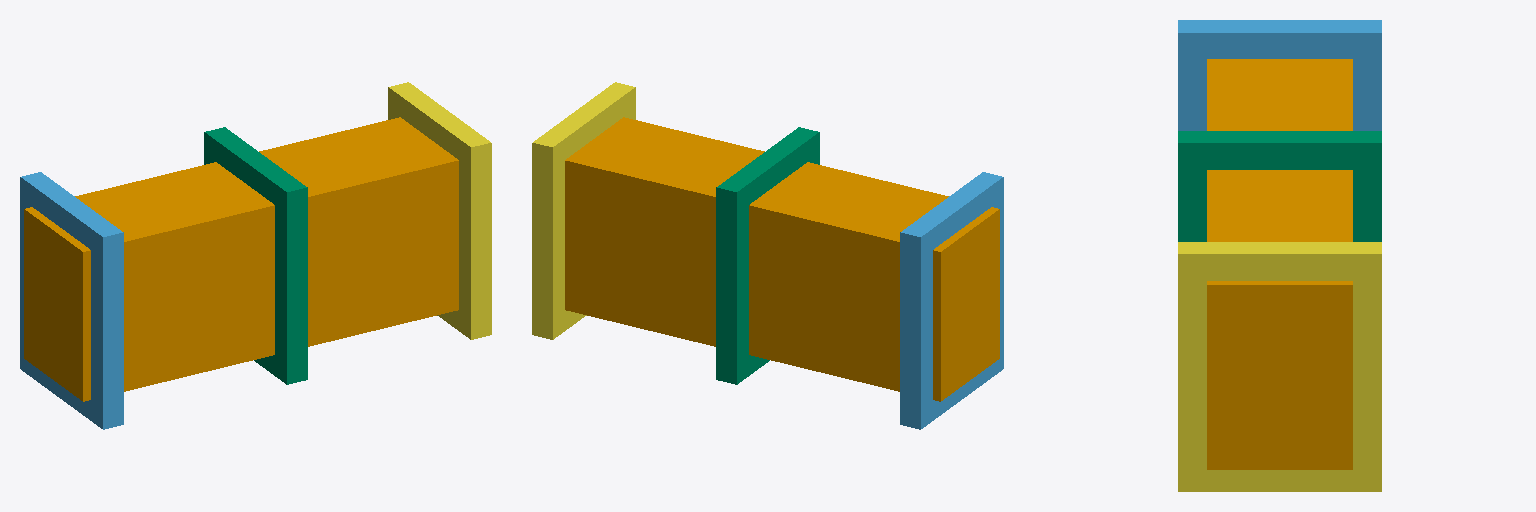
URDF robot description (debris016):
<?xml version="1.0" ?>
<robot name="debris016">

<link name="debris016">
<visual> <origin xyz="0 0 0" rpy="0 0 0" />
<geometry> <box size="0.99 0.25 0.35"/> </geometry>
</visual>
<collision> <origin xyz="0 0 0" rpy="0 0 0" />
<geometry> <box size="0.99 0.25 0.35"/> </geometry>
</collision>
<inertial> <origin xyz="0 0 0" rpy="0 0 0" />
<mass value="10.0" />
<inertia ixx="0.4699" ixy="0" ixz="0" iyy="0.4699" iyz="0" izz="0.4699" />
</inertial>
</link>
<gazebo reference="debris016"> <material>Gazebo/Tree</material> </gazebo>

<link name="debris0160">
<visual> <origin xyz="-0.45 0 0" rpy="0 0 0" />
<geometry> <box size="0.05 0.35 0.45"/> </geometry>
</visual>
<collision> <origin xyz="-0.45 0 0" rpy="0 0 0" />
<geometry> <box size="0.05 0.35 0.45"/> </geometry>
</collision>
<inertial> <origin xyz="0 0 0" rpy="0 0 0" />
<mass value="0.1" />
<inertia ixx="0.0100" ixy="0" ixz="0" iyy="0.0100" iyz="0" izz="0.0100" />
</inertial>
</link>
<gazebo reference="debris0160"> <material>Gazebo/Tree</material> </gazebo>

<joint name="debris0160joint" type="fixed">
<parent link="debris016"/>
<child link="debris0160"/>
<origin xyz="0 0 0" rpy="0 0 0" />
</joint>

<link name="debris0161">
<visual> <origin xyz="0.00 0 0" rpy="0 0 0" />
<geometry> <box size="0.05 0.35 0.45"/> </geometry>
</visual>
<collision> <origin xyz="0.00 0 0" rpy="0 0 0" />
<geometry> <box size="0.05 0.35 0.45"/> </geometry>
</collision>
<inertial> <origin xyz="0 0 0" rpy="0 0 0" />
<mass value="0.1" />
<inertia ixx="0.0100" ixy="0" ixz="0" iyy="0.0100" iyz="0" izz="0.0100" />
</inertial>
</link>
<gazebo reference="debris0161"> <material>Gazebo/Tree</material> </gazebo>

<joint name="debris0161joint" type="fixed">
<parent link="debris016"/>
<child link="debris0161"/>
<origin xyz="0 0 0" rpy="0 0 0" />
</joint>

<link name="debris0162">
<visual> <origin xyz="0.45 0 0" rpy="0 0 0" />
<geometry> <box size="0.05 0.35 0.45"/> </geometry>
</visual>
<collision> <origin xyz="0.45 0 0" rpy="0 0 0" />
<geometry> <box size="0.05 0.35 0.45"/> </geometry>
</collision>
<inertial> <origin xyz="0 0 0" rpy="0 0 0" />
<mass value="0.1" />
<inertia ixx="0.0100" ixy="0" ixz="0" iyy="0.0100" iyz="0" izz="0.0100" />
</inertial>
</link>
<gazebo reference="debris0162"> <material>Gazebo/Tree</material> </gazebo>

<joint name="debris0162joint" type="fixed">
<parent link="debris016"/>
<child link="debris0162"/>
<origin xyz="0 0 0" rpy="0 0 0" />
</joint>

</robot>

--- Facts derived from the render (not from the file) ---
Views: 3 orthographic renders of the robot side by side, from view 1: azimuth 30°, elevation 25°; view 2: azimuth 150°, elevation 25°; view 3: azimuth 270°, elevation 25°.
Model debris016 with 4 links and 3 joints (3 fixed), rooted at debris016, posed all joints at 0.
Visible links, largest first — view 1: debris016, debris0160, debris0162, debris0161; view 2: debris016, debris0160, debris0162, debris0161; view 3: debris016, debris0162, debris0160, debris0161.
Link boxes in pixels (x1,y1,x2,y2): debris016: (24, 117, 458, 401); debris0160: (20, 172, 123, 429); debris0162: (388, 82, 491, 339); debris0161: (204, 127, 307, 384); debris016: (565, 117, 999, 401); debris0160: (900, 172, 1003, 429); debris0162: (532, 82, 635, 339); debris0161: (716, 127, 819, 384); debris016: (1207, 59, 1352, 469); debris0162: (1178, 242, 1381, 491); debris0160: (1178, 20, 1381, 130); debris0161: (1178, 131, 1381, 241).
Bounding box of the posed robot: 0.99 × 0.35 × 0.45 m (x, y, z).
Geometry: primitives only (box / cylinder / sphere), no mesh files.
